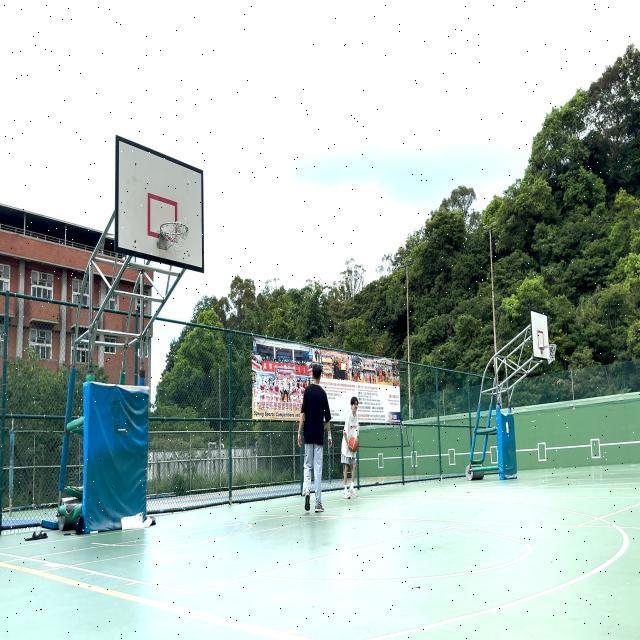ball: (348, 436, 358, 456)
hoop: (160, 218, 190, 237)
